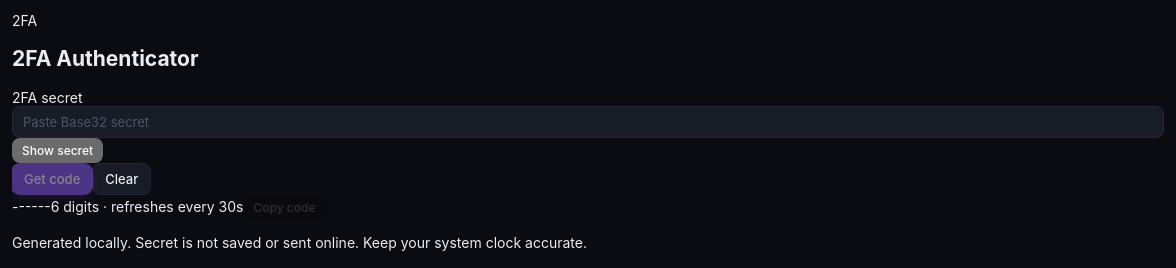
refreshes at expiry and stops on edit
This screenshot has width=1176, height=268.
Type "JBSWY3DPEHPK3PXP" into the password field labelled "2FA secret".
click(588, 122); type("JBSWY3DPEHPK3PXP")  # box 12,106 -> 1164,138
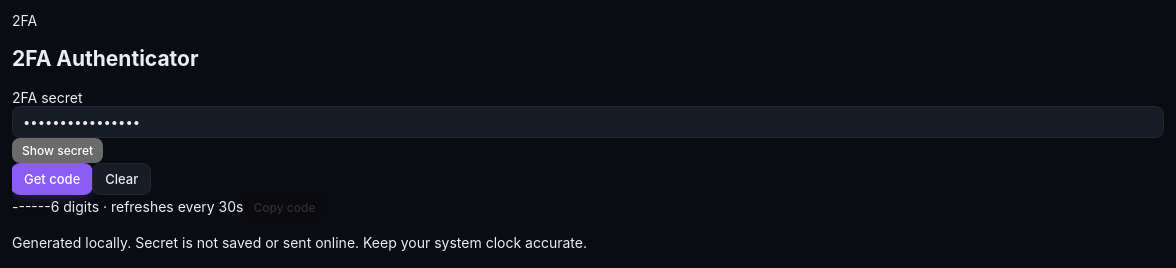
Click the button "Get code".
click(52, 179)  # box 12,164 -> 92,194
Wait 1000 ms
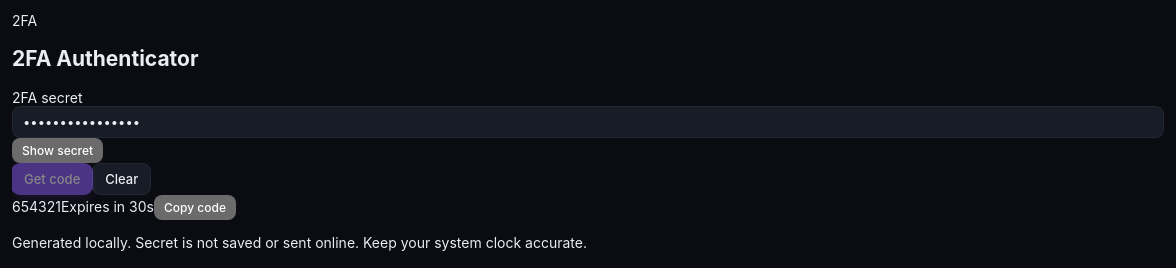
Check: the text "654321" is shown, box 12,198 -> 61,215
Check: the text "Expires in 30s" is shown, box 61,198 -> 154,215
Type "changed" into the password field labelled "2FA secret".
click(588, 122); type("changed")  # box 12,106 -> 1164,138
Wait 31000 ms
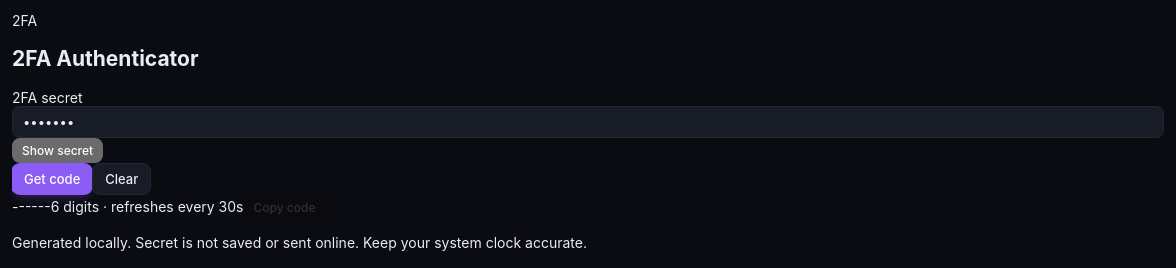
Check: the text "654321" is gone
